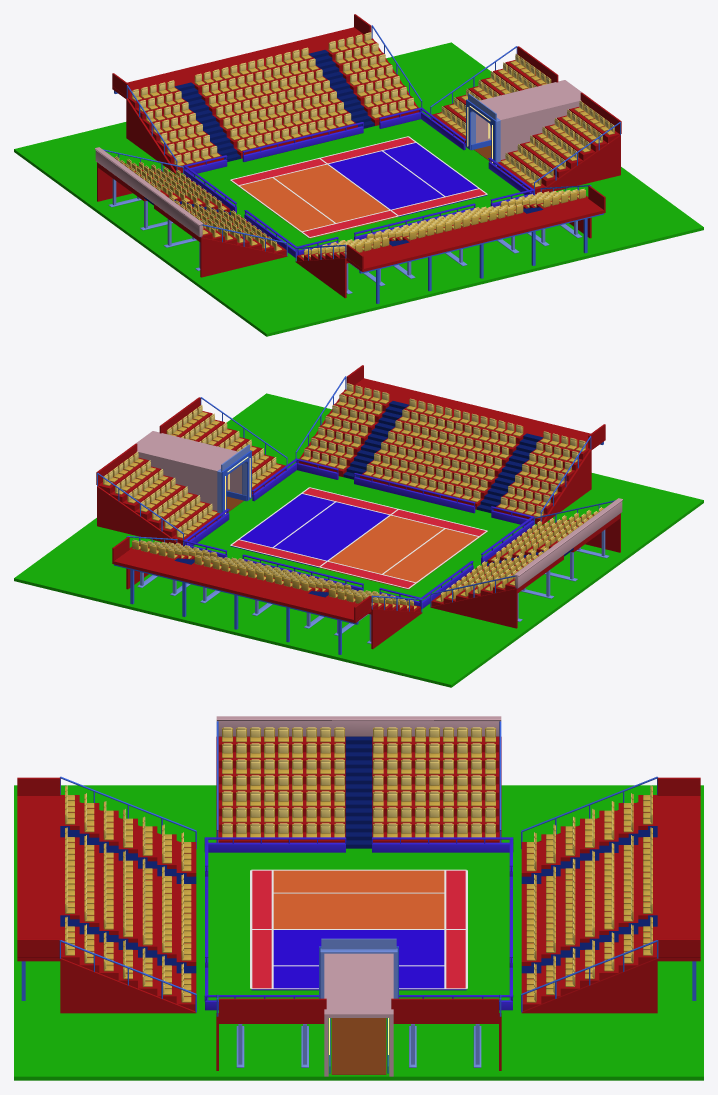
The model's file is Stadium_Blender_V1.fbx.
3 views of the same model, one above another, from view 1: azimuth 30°, elevation 25°; view 2: azimuth 150°, elevation 25°; view 3: azimuth 270°, elevation 25° (orthographic). The views are drawn at different scales.
Visible parts, largest first — view 1: ArenaFloor, SeatNorthMiddle, StandNorthStep, Mat_Left, Mat_Right, ConcourseSouth, SeatEastSouth, SeatNorthRight, SeatNorthLeft, ConcourseNorth, TunnelCeiling, StandEastSouthStep (+24 smaller); view 2: ArenaFloor, SeatSouthMiddle, StandSouthStep, Mat_Left, Mat_Right, ConcourseNorth, SeatEastNorth, SeatSouthRight, SeatSouthLeft, ConcourseSouth, TunnelCeiling, StandEastNorthStep (+24 smaller); view 3: ArenaFloor, StandNorthStep, StandSouthStep, SeatWestNorth, SeatWestSouth, Mat_Left, StandWestStep, ConcourseNorth, ConcourseSouth, Mat_Right, SeatNorthMiddle, SeatSouthMiddle (+29 smaller).
Part boxes in pixels (x1,y1,x2,y2): ArenaFloor: (14, 42, 703, 336); SeatNorthMiddle: (194, 47, 353, 150); StandNorthStep: (128, 38, 419, 173); Mat_Left: (231, 164, 397, 238); Mat_Right: (329, 143, 486, 216); ConcourseSouth: (346, 199, 605, 271); SeatEastSouth: (500, 100, 614, 187); SeatNorthRight: (328, 32, 416, 118); SeatNorthLeft: (132, 80, 220, 165); ConcourseNorth: (112, 27, 364, 98); TunnelCeiling: (479, 80, 589, 122); StandEastSouthStep: (497, 107, 619, 194); ArenaFloor: (14, 393, 703, 687); SeatSouthMiddle: (364, 398, 523, 501); StandSouthStep: (298, 389, 589, 524); Mat_Left: (320, 515, 486, 589); Mat_Right: (231, 494, 388, 567); ConcourseNorth: (112, 550, 371, 622); SeatEastNorth: (103, 451, 217, 538); SeatSouthRight: (301, 383, 389, 469); SeatSouthLeft: (497, 431, 585, 516); ConcourseSouth: (353, 378, 605, 449); TunnelCeiling: (128, 431, 238, 473); StandEastNorthStep: (98, 458, 220, 545); ArenaFloor: (14, 785, 703, 1080); StandNorthStep: (521, 795, 657, 1010); StandSouthStep: (60, 795, 196, 1010); SeatWestNorth: (373, 727, 495, 837); SeatWestSouth: (222, 727, 344, 837); Mat_Left: (273, 870, 444, 928); StandWestStep: (219, 736, 498, 842); ConcourseNorth: (657, 796, 700, 961); ConcourseSouth: (17, 796, 60, 961); Mat_Right: (251, 930, 466, 990); SeatNorthMiddle: (526, 827, 652, 960); SeatSouthMiddle: (65, 827, 191, 960).
Size of the model in its own units: 3200 by 400 by 3200.
